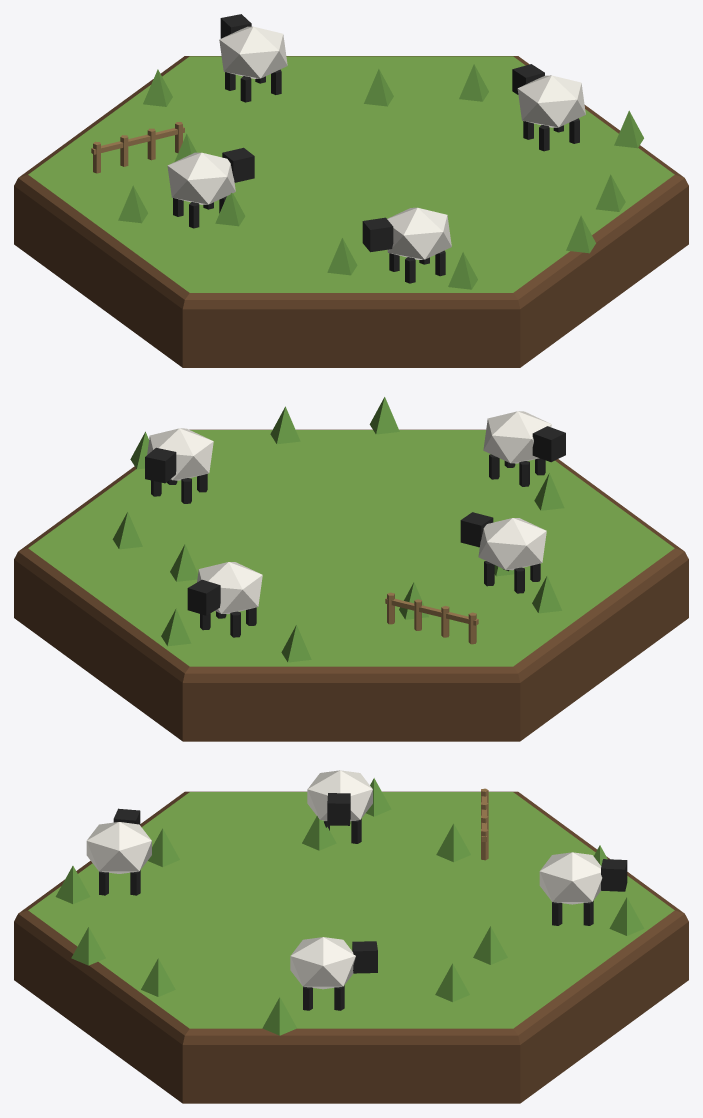
Rendered from tile_pasture.glb.
The picture shows the model from 3 angles, top to bottom: view 1: azimuth 30°, elevation 25°; view 2: azimuth 150°, elevation 25°; view 3: azimuth 270°, elevation 25°; orthographic projection.
Visible parts, largest first — view 1: tile_pasture; view 2: tile_pasture; view 3: tile_pasture.
Boxes of the visible parts, x1,y1,x2,y2 form: tile_pasture: (14, 14, 688, 367); tile_pasture: (14, 397, 688, 741); tile_pasture: (14, 770, 688, 1103).
Bounding box in the file's own units: 1.68 × 0.4225 × 1.93.
